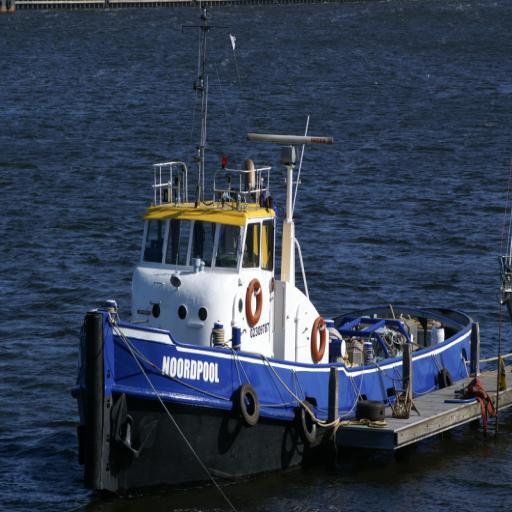tugboat: (69, 129, 483, 508)
